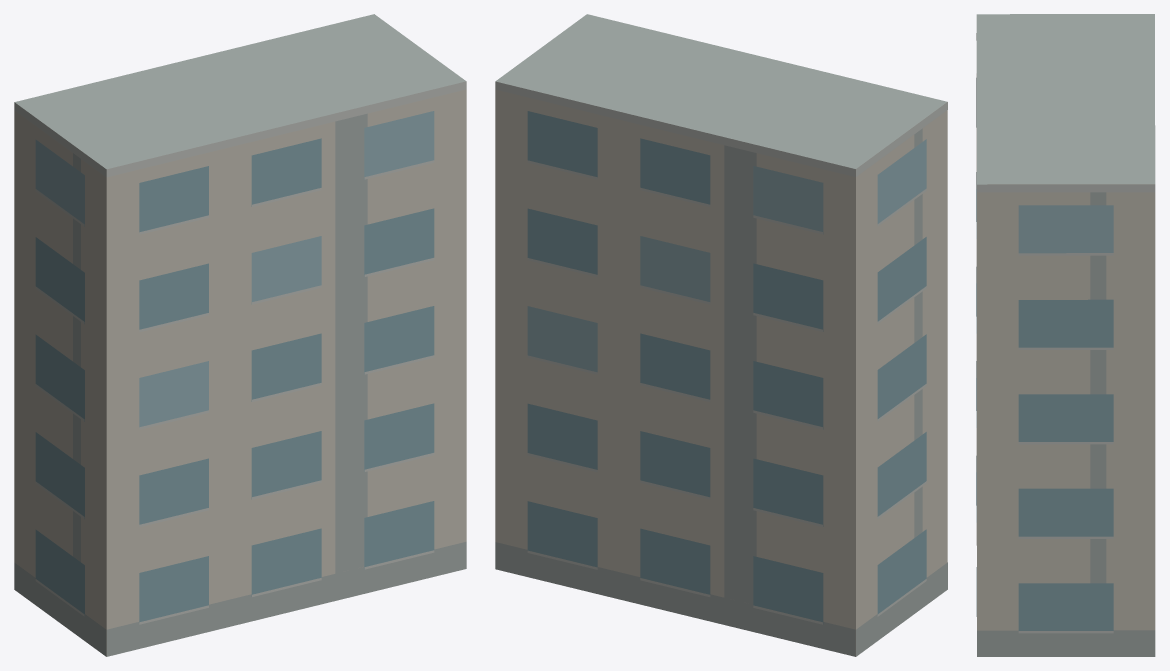
Rendered from survey-upis-32728770.glb.
3 renders of one model, left to right at view 1: azimuth 30°, elevation 25°; view 2: azimuth 150°, elevation 25°; view 3: azimuth 270°, elevation 25°, orthographic. The views are drawn at different scales.
Parts seen in each view (by area): view 1: survey-upis-32728770.tmp; view 2: survey-upis-32728770.tmp; view 3: survey-upis-32728770.tmp.
Part boxes in pixels (x1,y1,x2,y2): survey-upis-32728770.tmp: [14, 14, 466, 656]; survey-upis-32728770.tmp: [495, 14, 947, 656]; survey-upis-32728770.tmp: [976, 14, 1155, 656].
Bounding box in the file's own units: 11.4 × 14.7 × 5.06.
